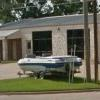Boat: (12, 45, 81, 85)
